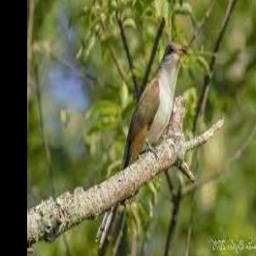Cuckoo: (96, 42, 187, 250)
